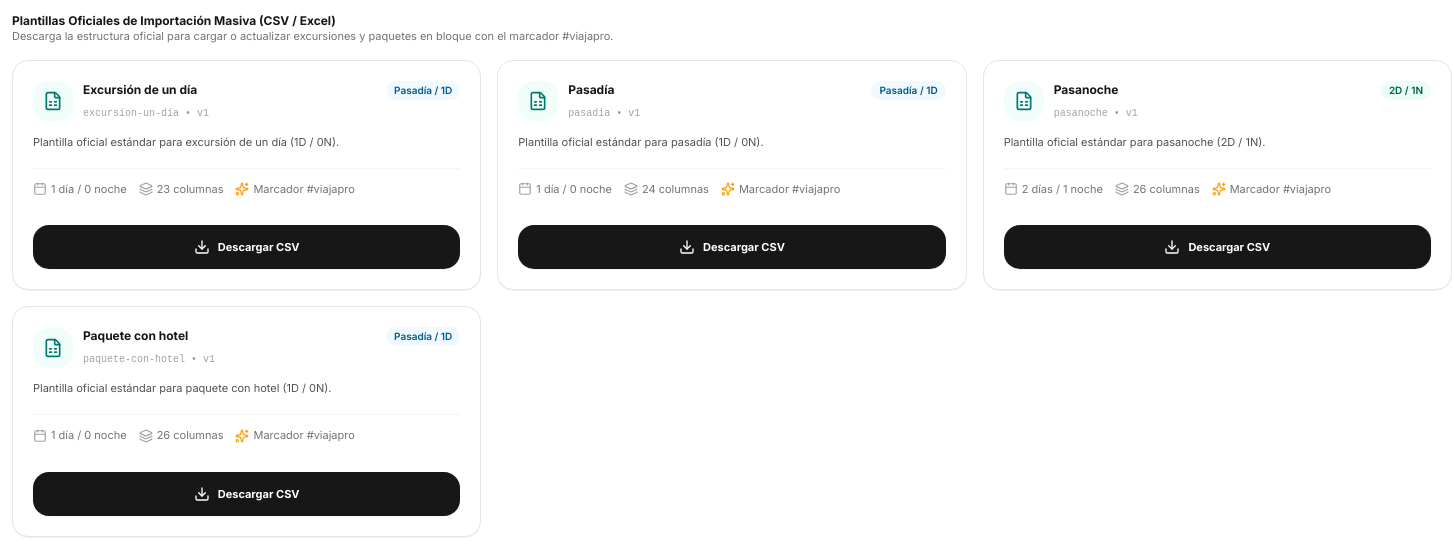
Test case: DescargaPlantillas (T-030) › descarga el CSV oficial con el marcador #viajapro al pulsar el botón de descarga
Expected: the element with test id "tarjeta-plantilla-excursion-un-dia" is shown, [12, 60, 481, 290]
Click the button with test id "btn-descargar-plantilla-excursion-un-dia".
click(247, 247)  # box [33, 225, 460, 269]
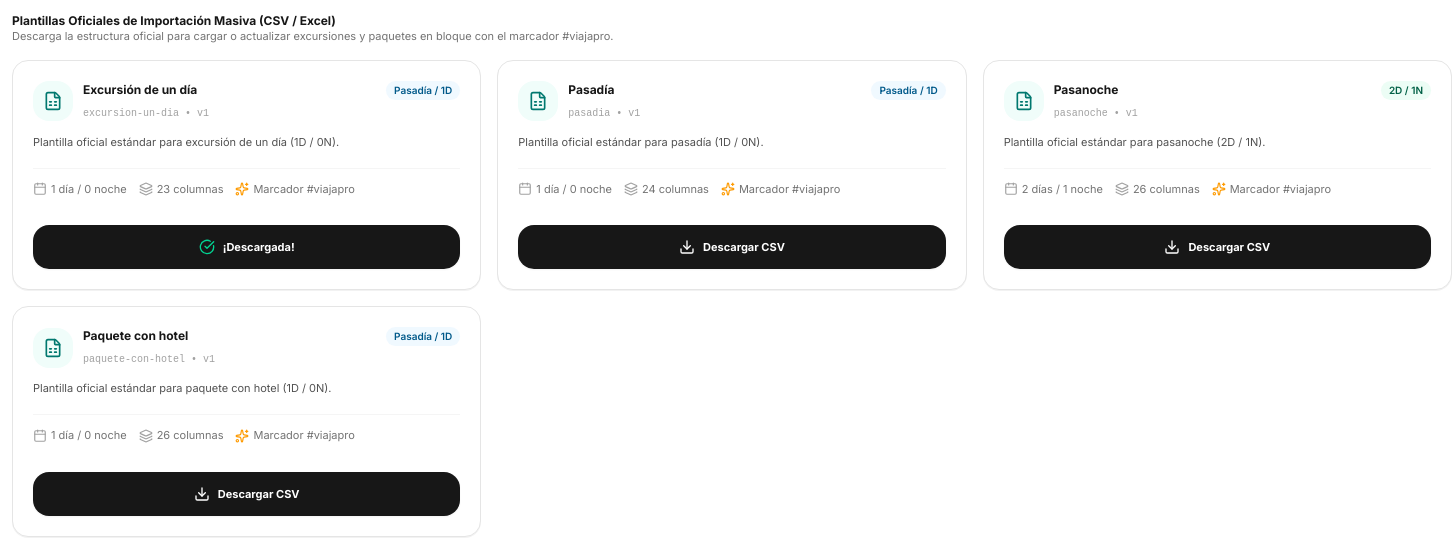
Result: the text "¡Descargada!" is shown at [223, 240, 295, 255]
